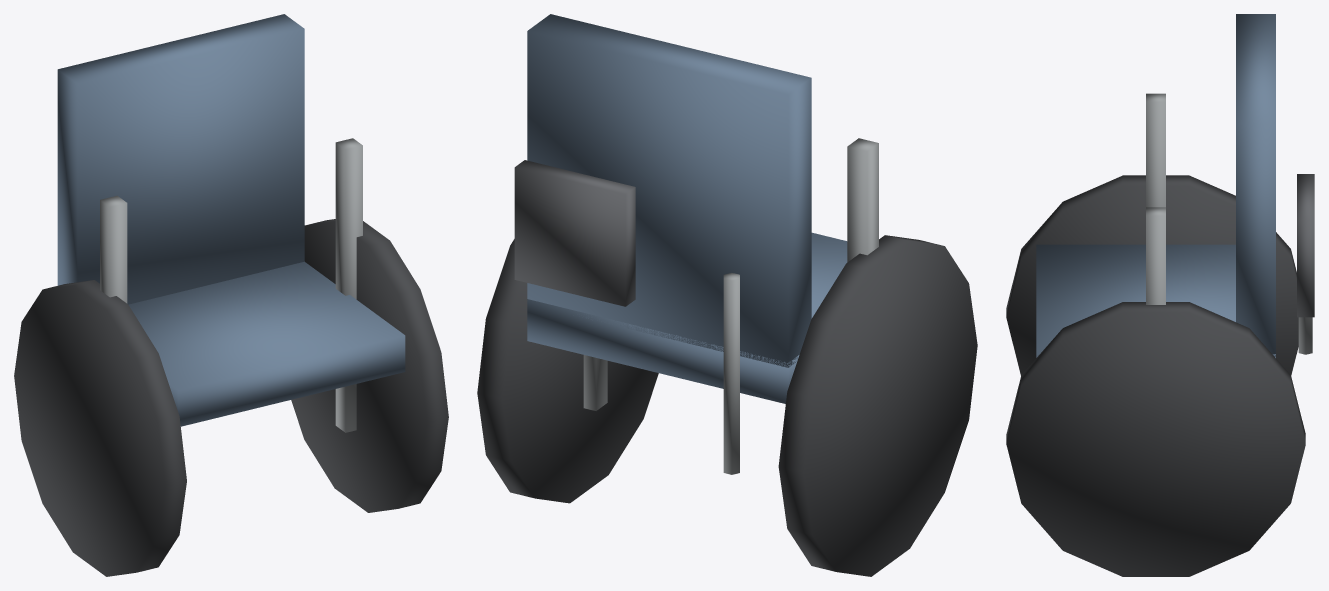
The model's file is wheelchair__service.glb.
The picture shows the model from 3 angles, left to right: view 1: azimuth 30°, elevation 25°; view 2: azimuth 150°, elevation 25°; view 3: azimuth 270°, elevation 25°; orthographic projection. The views are drawn at different scales.
Parts seen in each view (by area): view 1: world; view 2: world; view 3: world.
Boxes of the visible parts, x1,y1,x2,y2 form: world: (14, 14, 448, 576); world: (477, 14, 977, 576); world: (1006, 14, 1314, 576).
Size of the model in its own units: 0.65 by 0.9725 by 0.6175.
